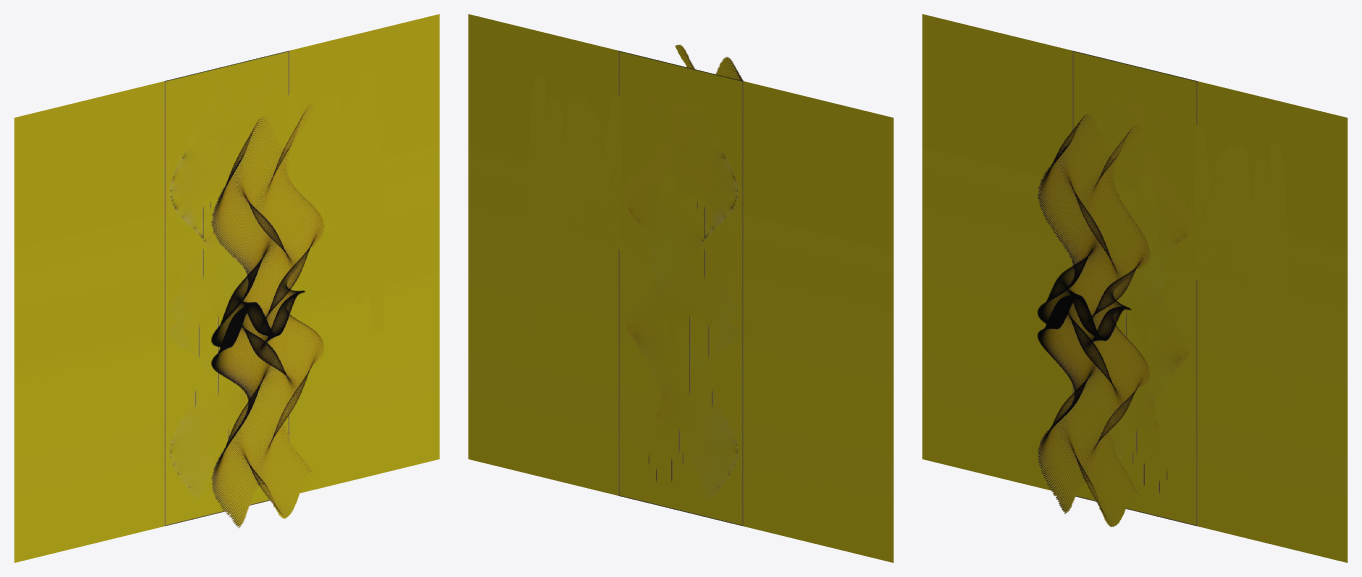
Rendered from graph.glb.
The picture shows the model from 3 angles, left to right: view 1: azimuth 30°, elevation 25°; view 2: azimuth 150°, elevation 25°; view 3: azimuth 330°, elevation 25°; orthographic projection.
Visible parts, largest first — view 1: mesh_id1, mesh_id37; view 2: mesh_id1, mesh_id37; view 3: mesh_id1, mesh_id37.
Part boxes in pixels (x1=…): mesh_id1: x1=14, y1=14, x2=439, y2=562; mesh_id37: x1=211, y1=104, x2=324, y2=527; mesh_id1: x1=468, y1=14, x2=893, y2=562; mesh_id37: x1=675, y1=44, x2=743, y2=80; mesh_id1: x1=922, y1=14, x2=1347, y2=562; mesh_id37: x1=1037, y1=114, x2=1150, y2=526.
Bounding box in the file's own units: 1.8 × 1.8 × 0.3.
2 materials, 2 textured.
